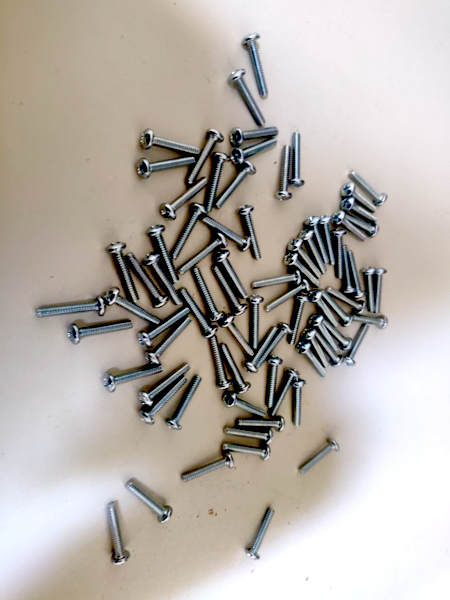longscrew: (123, 251, 172, 308), (228, 68, 267, 127), (140, 361, 191, 405), (107, 242, 142, 306), (139, 378, 188, 423), (148, 224, 185, 283), (161, 174, 209, 219), (146, 253, 184, 306), (125, 481, 174, 522), (244, 511, 284, 561), (187, 130, 224, 183), (215, 163, 261, 205), (194, 268, 229, 323), (182, 282, 217, 337), (147, 320, 191, 363), (139, 307, 190, 344), (68, 313, 133, 342), (181, 448, 233, 484), (165, 379, 202, 429), (242, 32, 269, 100), (241, 327, 277, 377), (180, 232, 226, 271), (105, 291, 160, 322), (135, 150, 195, 178), (220, 343, 252, 395), (173, 205, 205, 256), (258, 324, 293, 369), (204, 216, 250, 250), (104, 363, 163, 389), (214, 253, 248, 298), (214, 270, 248, 315), (269, 371, 301, 418), (31, 301, 107, 320), (287, 240, 325, 278), (108, 495, 127, 568), (299, 441, 340, 474), (266, 279, 308, 310), (240, 205, 262, 263), (232, 138, 279, 165), (206, 153, 227, 213), (308, 218, 332, 270), (244, 296, 265, 355), (298, 230, 324, 277), (210, 335, 230, 391), (345, 326, 371, 369), (342, 182, 379, 212), (142, 133, 200, 152), (333, 214, 369, 244), (314, 327, 341, 367), (342, 209, 379, 238), (287, 297, 308, 348), (230, 124, 278, 146), (288, 254, 321, 286), (223, 319, 254, 353), (352, 174, 388, 203), (344, 198, 380, 227), (299, 343, 327, 380), (250, 271, 305, 289), (292, 133, 309, 190), (278, 147, 295, 204), (313, 316, 339, 353), (265, 359, 283, 412), (306, 329, 330, 368), (326, 293, 354, 326), (327, 288, 367, 311), (313, 291, 336, 329), (220, 445, 274, 460), (222, 401, 271, 417), (373, 268, 389, 315), (364, 269, 380, 316), (350, 253, 366, 300), (332, 231, 348, 278), (320, 219, 336, 265), (342, 247, 357, 294), (327, 321, 352, 348), (221, 429, 277, 441), (293, 382, 305, 432), (235, 419, 287, 430), (351, 316, 389, 329)
